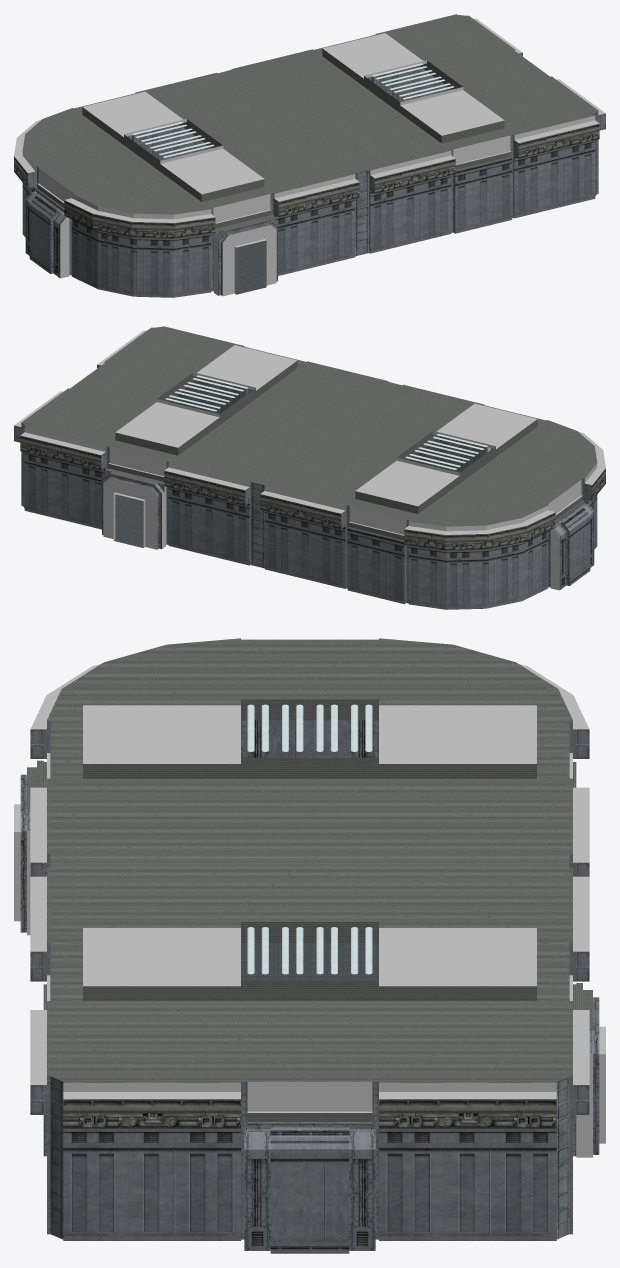
Rendered from poi_all_impl_bunker_warren_s01_r66_smallroom66_mesh_r66.fbx.
3 views of the same model, one above another, from view 1: azimuth 30°, elevation 25°; view 2: azimuth 150°, elevation 25°; view 3: azimuth 270°, elevation 25° (orthographic). The views are drawn at different scales.
Visible parts, largest first — view 1: mesh_node; view 2: mesh_node; view 3: mesh_node.
Part boxes in pixels (bbox=[...]): mesh_node: bbox=[14, 14, 605, 297]; mesh_node: bbox=[14, 326, 605, 609]; mesh_node: bbox=[14, 638, 605, 1253].
Size of the model in its own units: 33.8 by 6 by 18.
